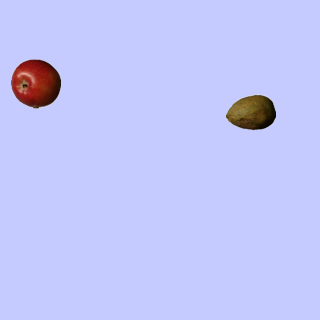Apple Braeburn: (10, 58, 60, 108)
Papaya: (225, 87, 275, 137)
